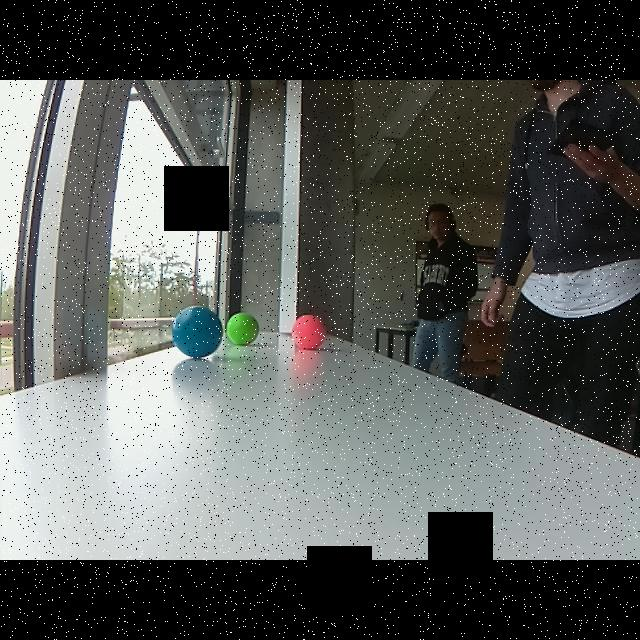ball: (170, 304, 224, 359), (290, 312, 327, 353), (225, 309, 260, 347)
